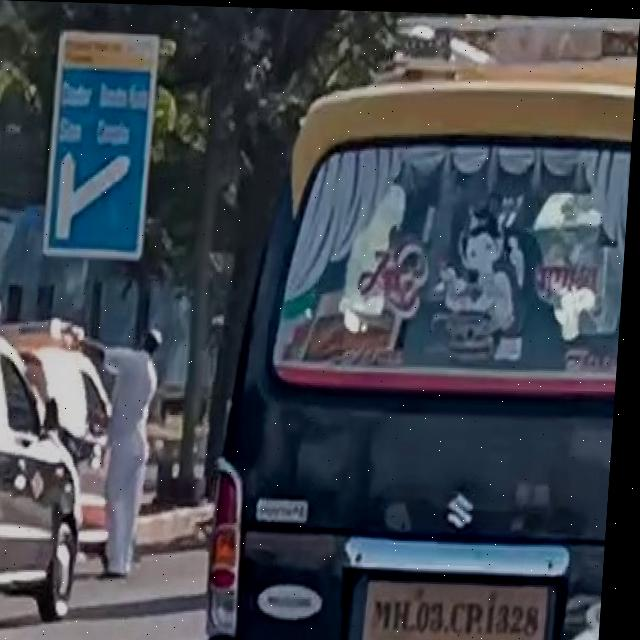plate: (364, 564, 563, 640)
